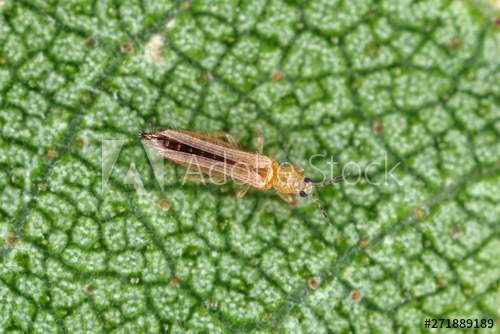Thrips: (144, 120, 316, 206)
